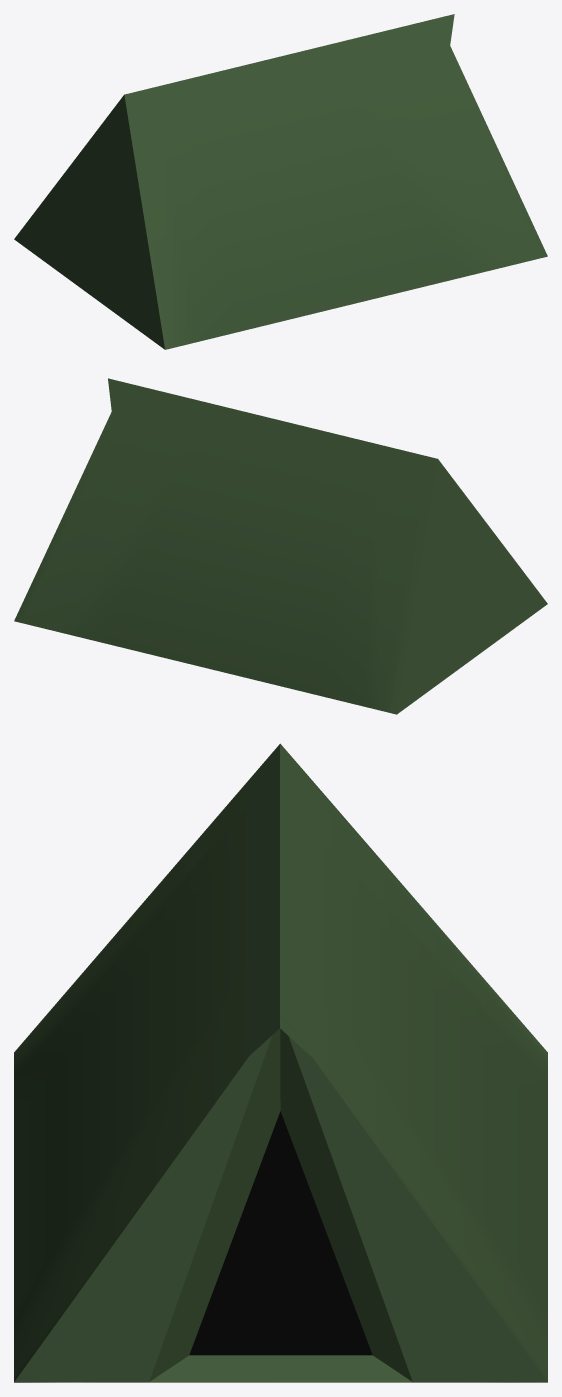
Rendered from Tent.fbx.
3 renders of one model, top to bottom at view 1: azimuth 30°, elevation 25°; view 2: azimuth 150°, elevation 25°; view 3: azimuth 270°, elevation 25°, orthographic. The views are drawn at different scales.
Parts seen in each view (by area): view 1: polySurface1; view 2: polySurface1; view 3: polySurface1.
Part boxes in pixels (bbox=[...]): polySurface1: bbox=[14, 14, 547, 349]; polySurface1: bbox=[14, 378, 547, 714]; polySurface1: bbox=[14, 743, 547, 1382].
Bounding box in the file's own units: 5.66 × 2.71 × 3.87.
